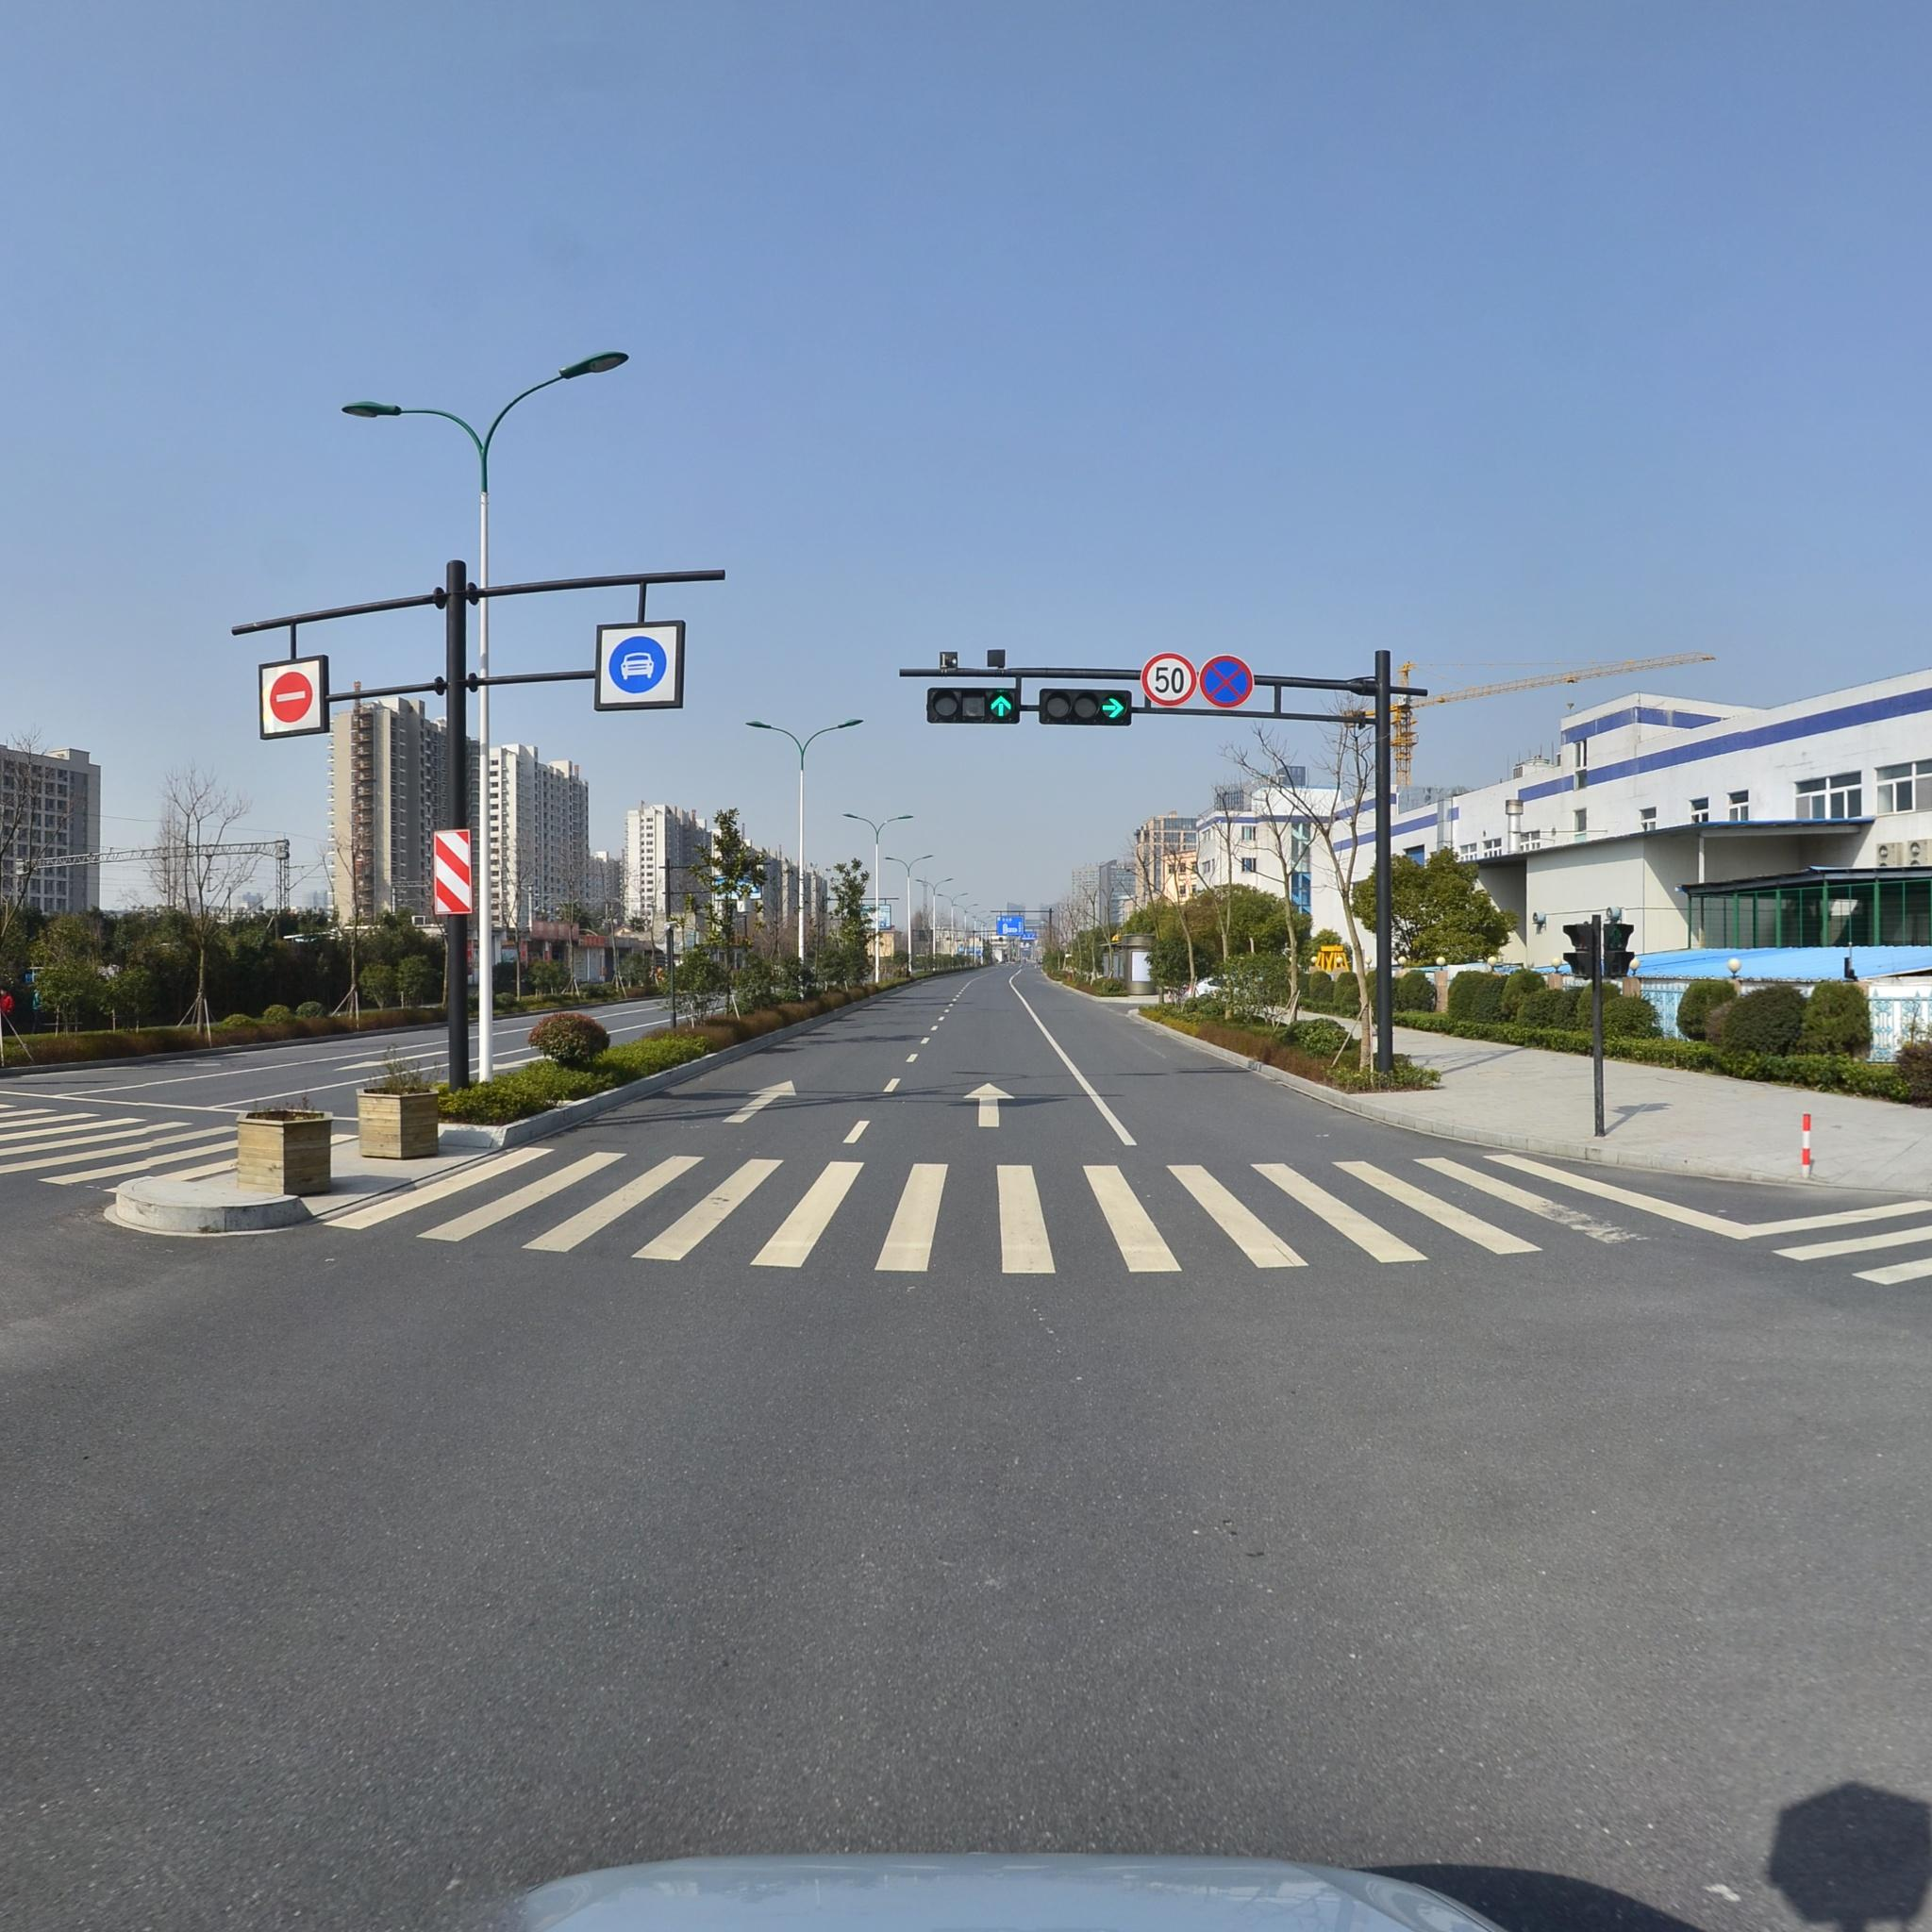i4: (612, 632, 674, 692)
pl50: (1146, 658, 1198, 713)
pn: (1207, 651, 1253, 713)
pne: (255, 662, 318, 727)
